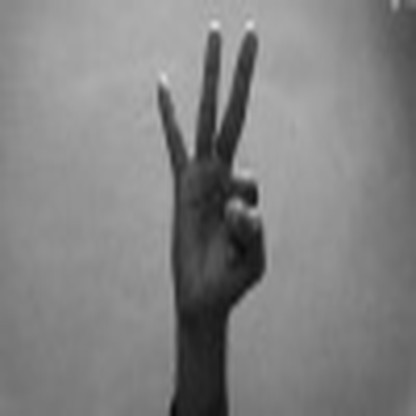f: (146, 19, 288, 295)
